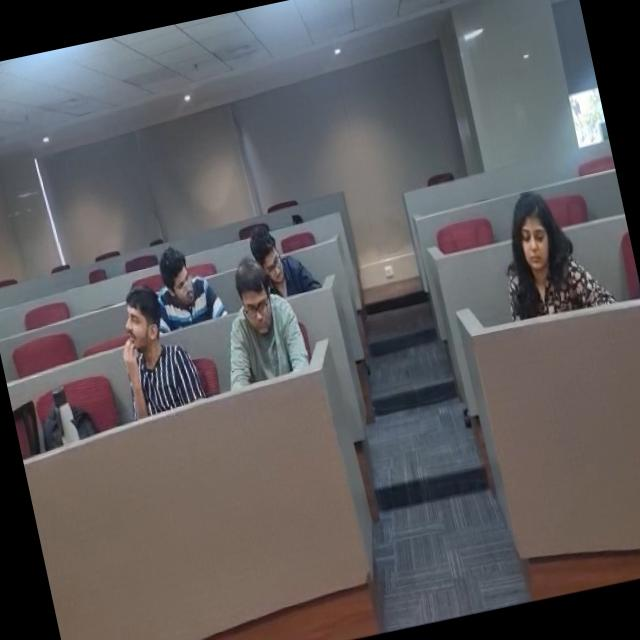cheating: (99, 280, 190, 400), (142, 230, 226, 334)
non-cheating: (474, 174, 590, 322), (208, 242, 294, 382), (229, 200, 318, 304)
